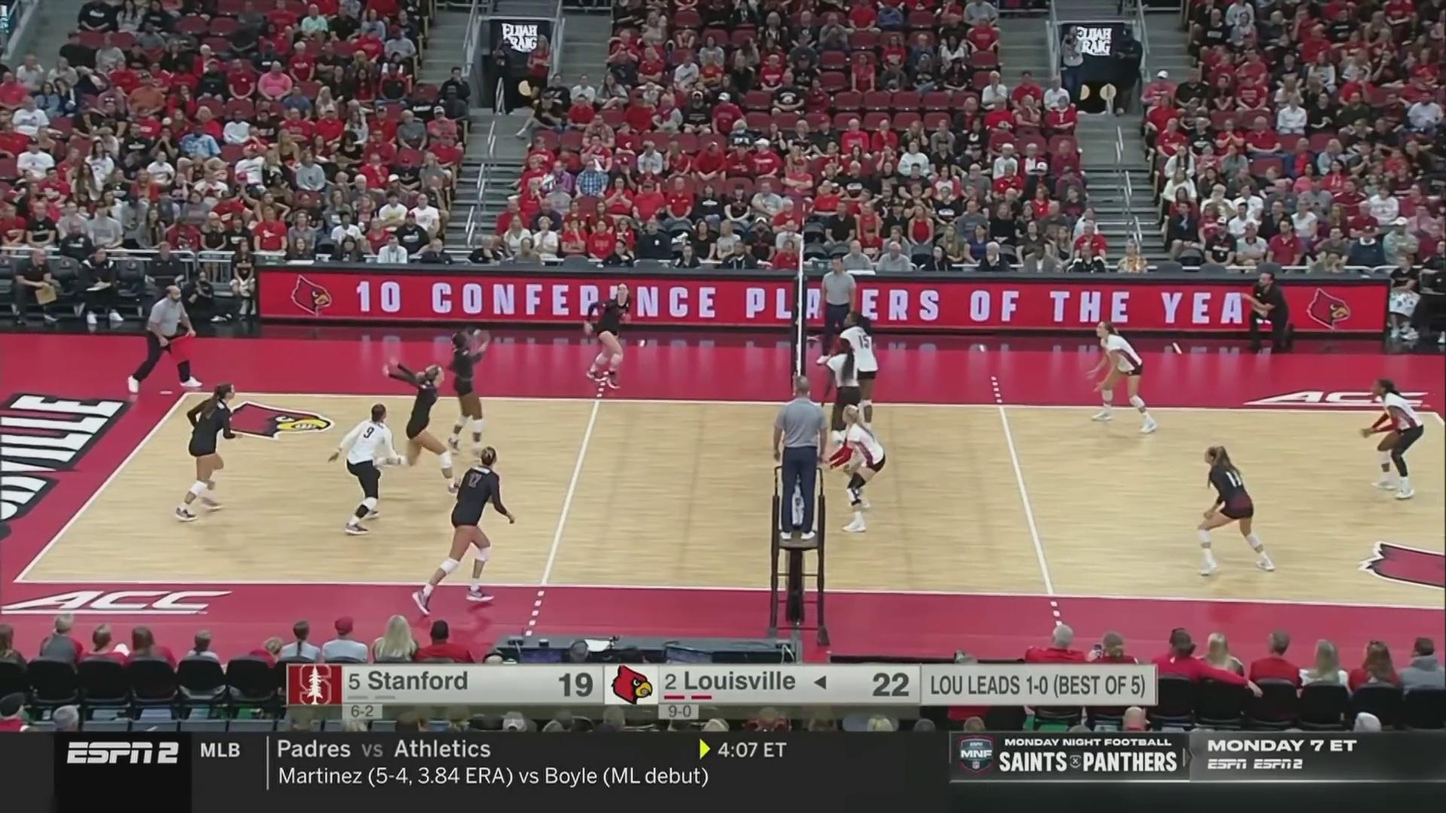player: (423, 445, 516, 607), (377, 364, 466, 494), (332, 402, 409, 534), (1196, 446, 1274, 573), (1086, 318, 1161, 434), (174, 382, 237, 519), (826, 407, 890, 533), (1366, 384, 1423, 498), (835, 313, 882, 439), (449, 328, 490, 456), (586, 282, 632, 387), (827, 338, 862, 454)
refree: (771, 385, 833, 541), (137, 285, 201, 391), (819, 255, 857, 365)
